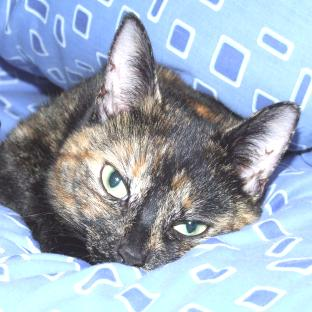Animal: (0, 13, 300, 271)
